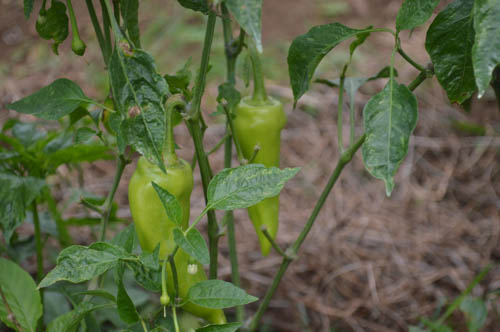ChiliPepper: (127, 159, 226, 329), (231, 105, 280, 255)
